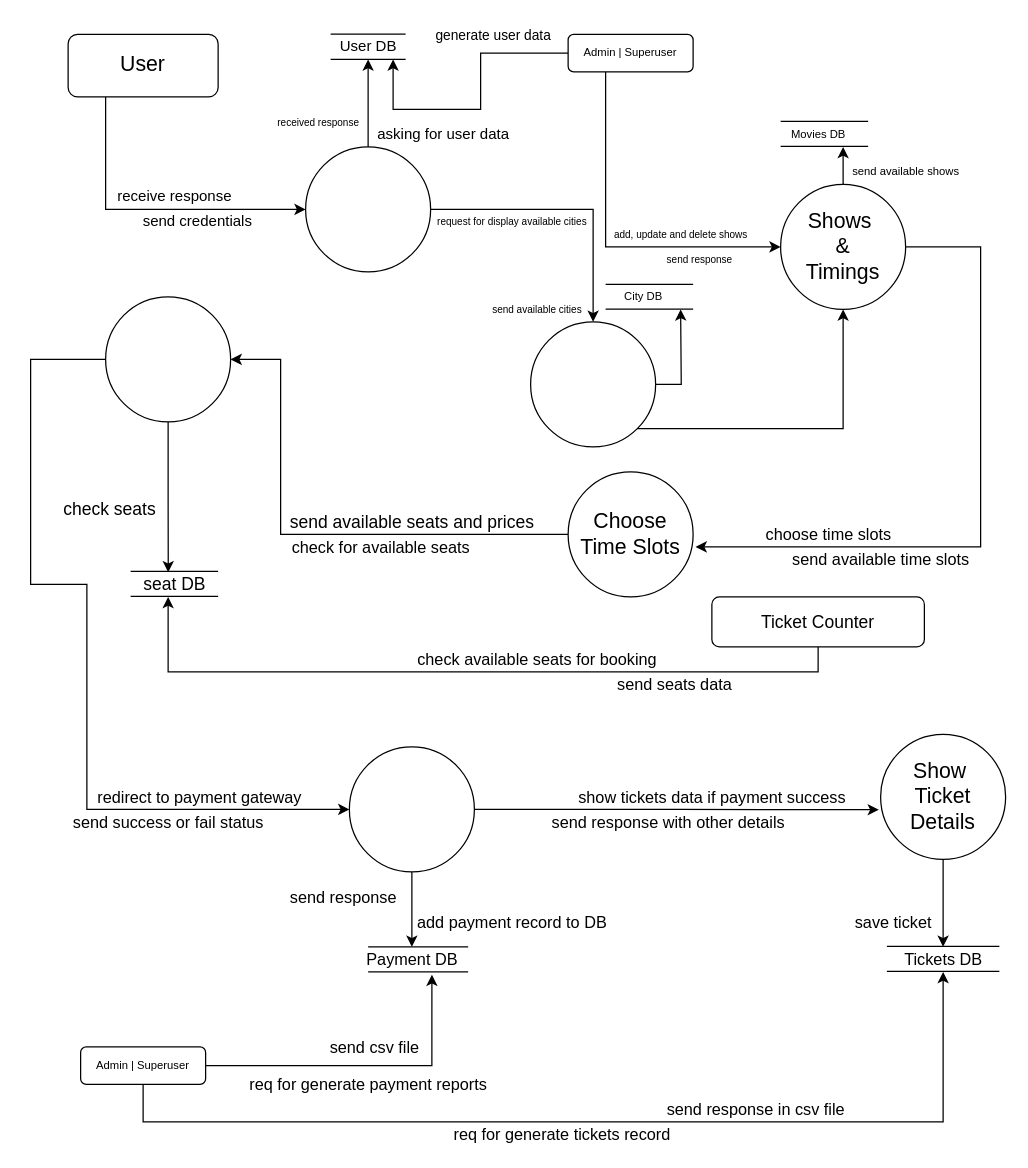
The diagram is 1028 pixels wide and 1168 high, and some of its shapes have lost their labels. The shapes that lost their labels are listed below. From the top down, each one's centre as x and y in pixels, then its label:
(x=367, y=209): Auth
(x=167, y=359): Seat Selection
(x=592, y=384): City
(x=411, y=809): Payment Gateway
